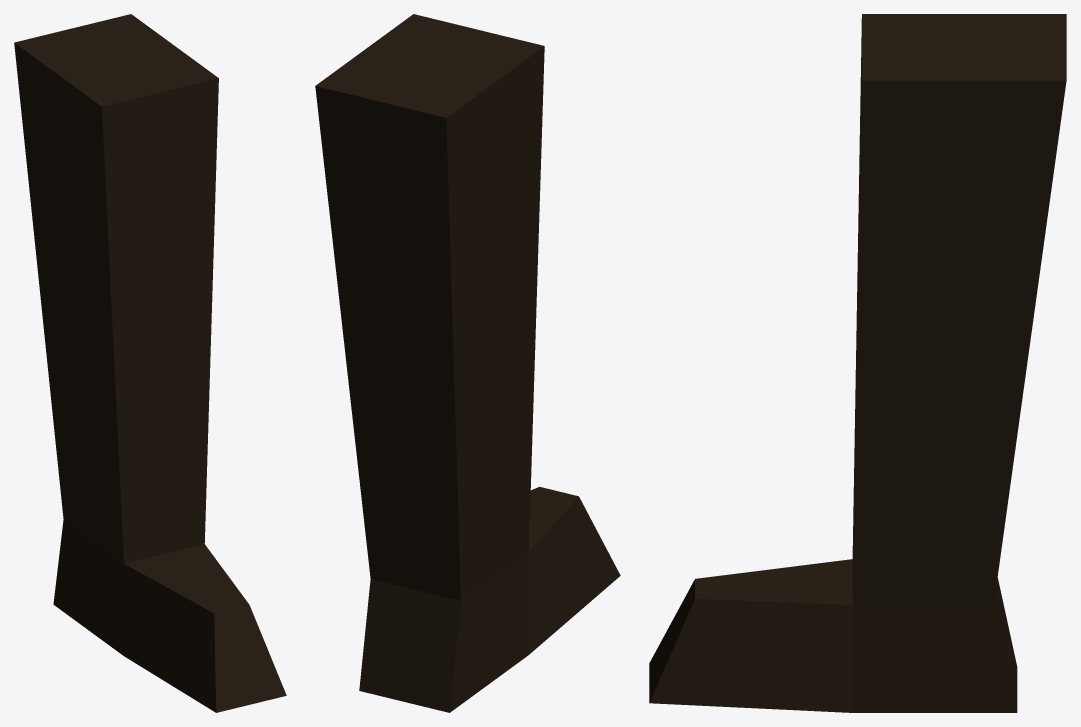
File: leg_left.gltf
The picture shows the model from 3 angles, left to right: view 1: azimuth 30°, elevation 25°; view 2: azimuth 150°, elevation 25°; view 3: azimuth 270°, elevation 25°; orthographic projection. The views are drawn at different scales.
Visible parts, largest first — view 1: Cube.001; view 2: Cube.001; view 3: Cube.001.
Boxes of the visible parts, x1,y1,x2,y2 form: Cube.001: (14,14,286,712); Cube.001: (315,14,620,712); Cube.001: (649,14,1066,712).
Bounding box in the file's own units: 0.4284 × 1.93 × 1.13.
